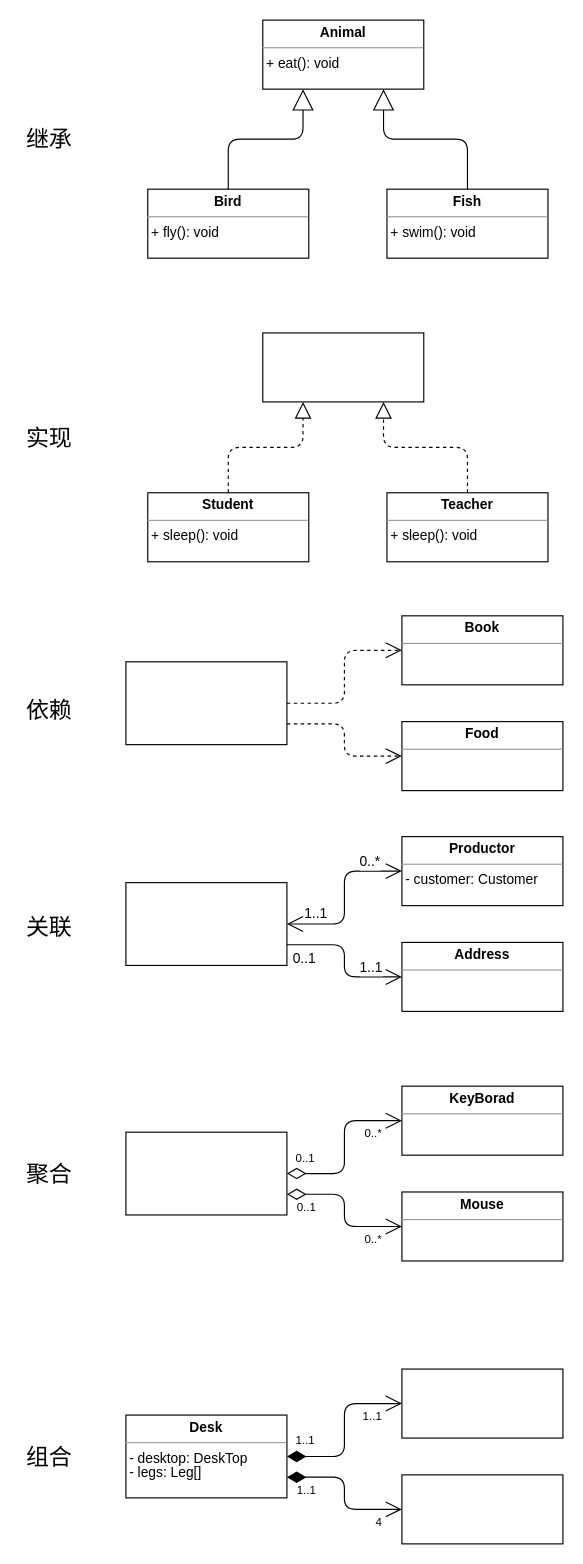
This 583x1564 diagram has some shape labels left out. Here are the shapes that lost their labels. From the top down, the centre of each, then its label:
At (343,367): "People + sleep(): void".
At (206,703): "Human + read(Book book): void + eat(Food food): void".
At (206,923): "Customer - products: List<Product> - address: Adress".
At (206,1173): "Computer - keyborad: KeyBorad - mouse: Mouse".
At (482,1403): "DeskTop".
At (482,1509): "Leg".
